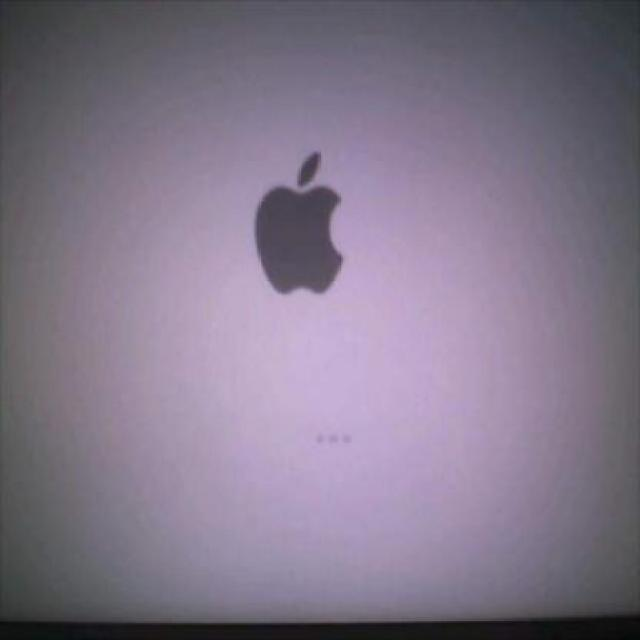Apple pie: (255, 150, 348, 296)
